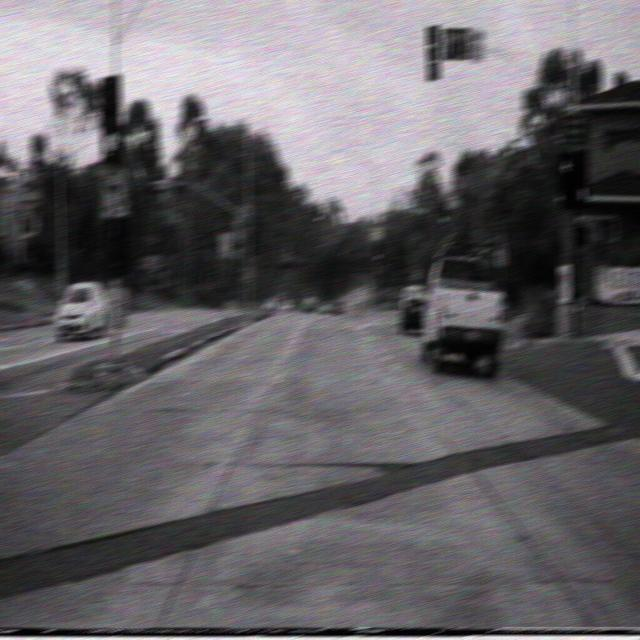noLeftTurn: (100, 168, 128, 217)
